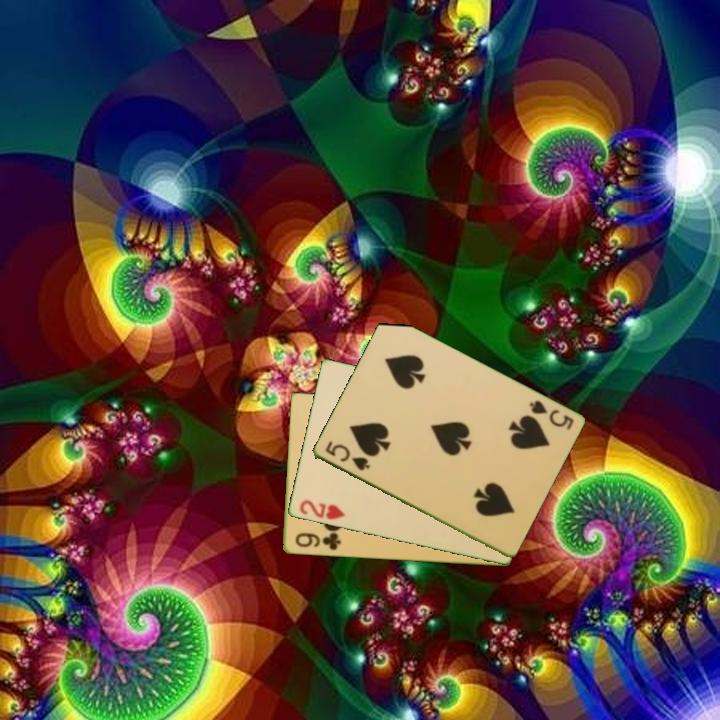2h: (296, 496, 347, 523)
5s: (321, 437, 372, 474), (525, 397, 576, 433)
9c: (291, 530, 344, 553)
